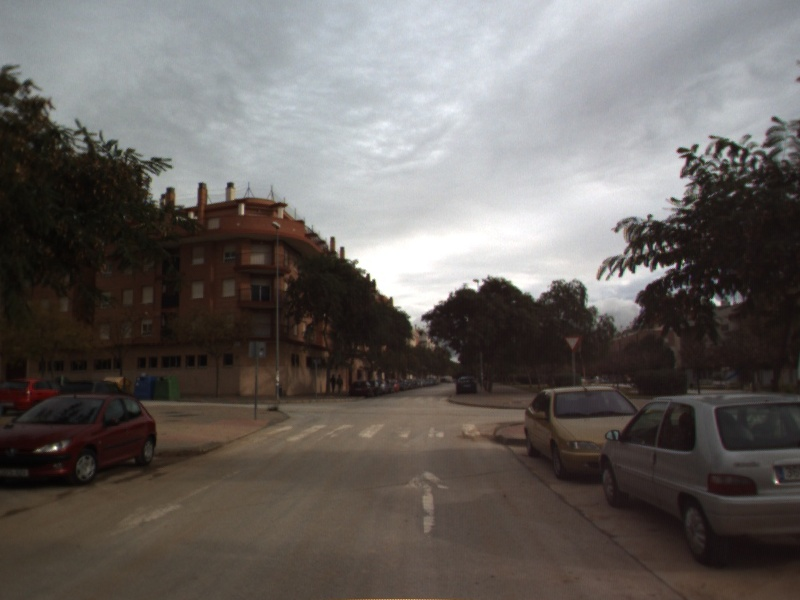STRAIGHT: (400, 468, 453, 536)
